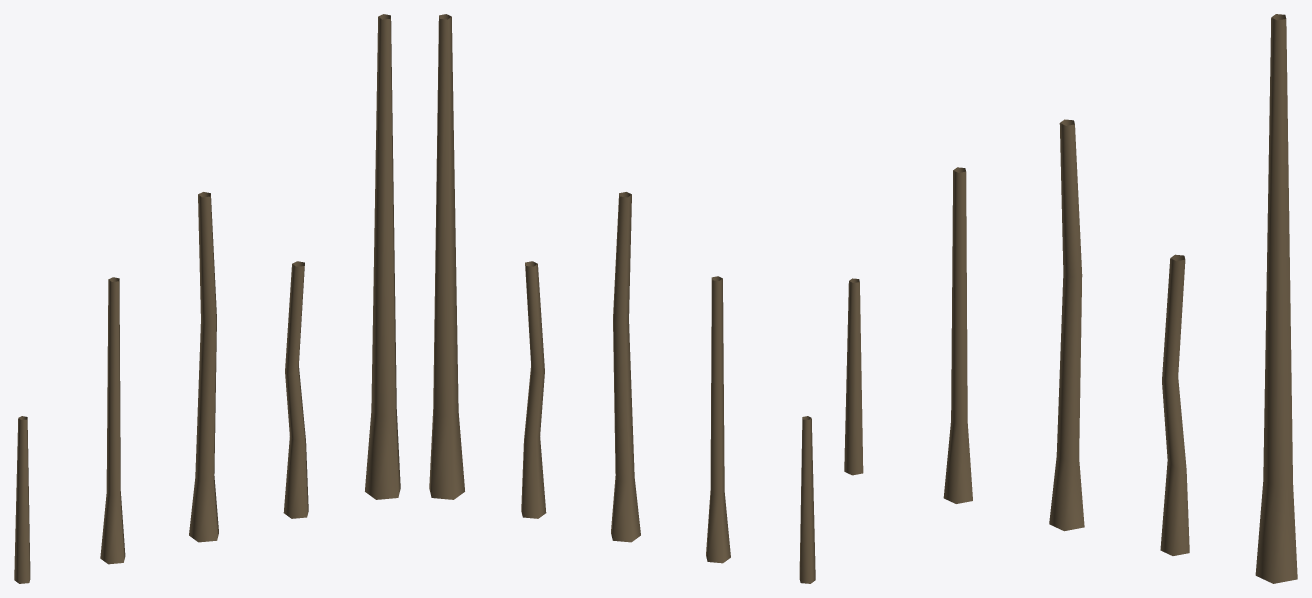
Rendered from ConiferTrunks.fbx.
The picture shows the model from 3 angles, left to right: view 1: azimuth 30°, elevation 25°; view 2: azimuth 150°, elevation 25°; view 3: azimuth 330°, elevation 25°; orthographic projection. The views are drawn at different scales.
Visible parts, largest first — view 1: Trunk, Trunk2, Trunk4, Trunk1, Trunk3; view 2: Trunk, Trunk2, Trunk4, Trunk1, Trunk3; view 3: Trunk, Trunk2, Trunk4, Trunk1, Trunk3.
Boxes of the visible parts, box(x1,y1,x2,y2) form: Trunk: box(365, 14, 400, 499); Trunk2: box(189, 192, 218, 542); Trunk4: box(100, 277, 125, 564); Trunk1: box(283, 261, 308, 518); Trunk3: box(14, 416, 30, 583); Trunk: box(429, 14, 464, 499); Trunk2: box(611, 192, 640, 542); Trunk4: box(706, 276, 730, 563); Trunk1: box(521, 261, 546, 518); Trunk3: box(799, 416, 815, 583); Trunk: box(1255, 14, 1297, 583); Trunk2: box(1049, 119, 1084, 531); Trunk4: box(943, 167, 972, 503); Trunk1: box(1160, 254, 1189, 555); Trunk3: box(844, 278, 863, 475).
Bounding box in the file's own units: 742 × 878 × 61.49.
